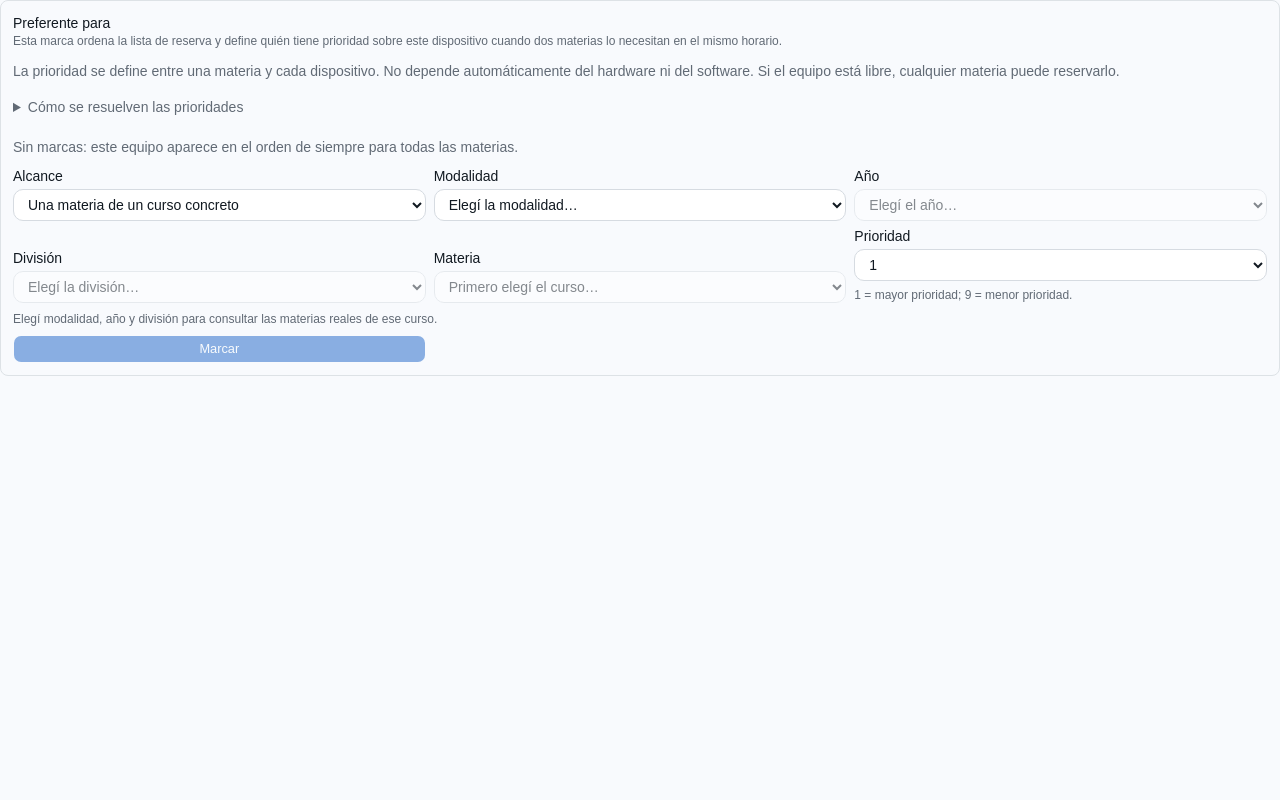
Scenario: PreferenciasDeEquipo › explica el orden numérico, el alcance y las protecciones de la reposición
The width and height of the screenshot is (1280, 800).
Click the heading "Cómo se resuelven las prioridades" at (136, 107), box [28, 99, 243, 115]
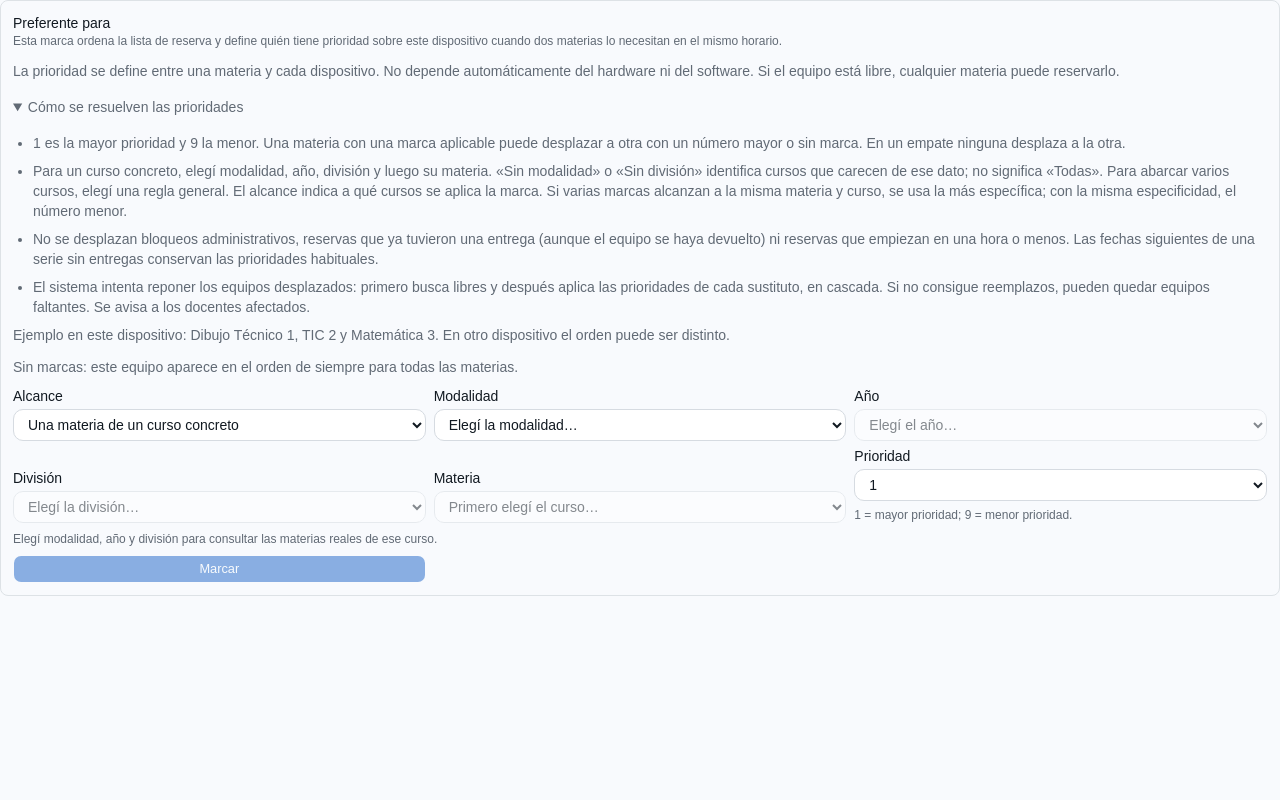
Expected: the list item "En un empate ninguna desplaza" is shown, [33, 135, 1126, 151]
Expected: the list item "se usa la más específica" is shown, [33, 163, 1236, 219]
Expected: the list item "reservas que empiezan en una hora o menos" is shown, [33, 231, 1255, 267]
